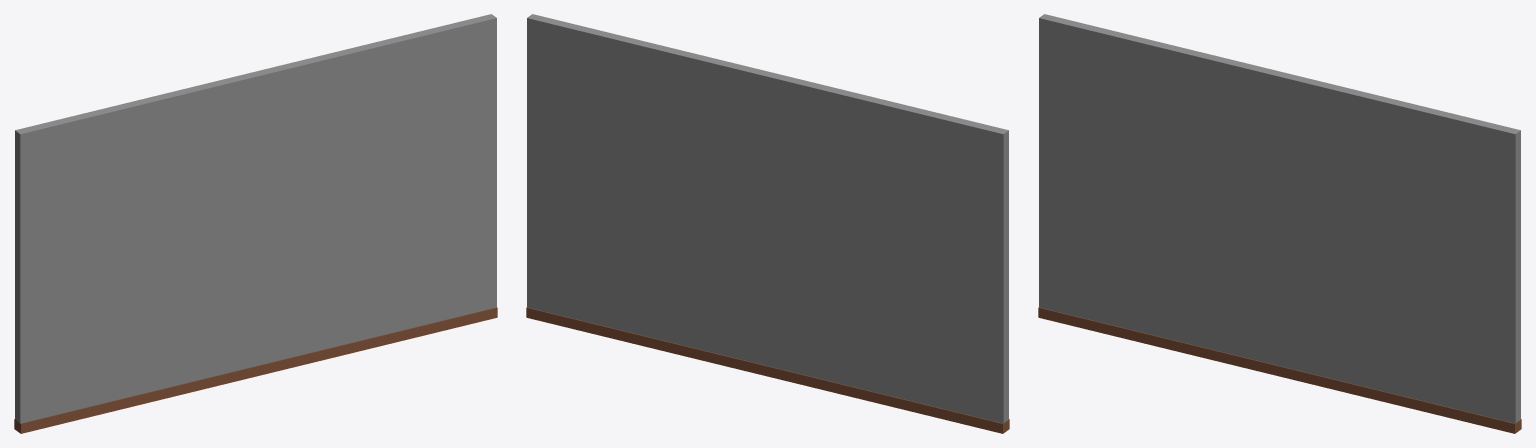
File: Mur_h3m.FBX
The picture shows the model from 3 angles, left to right: view 1: azimuth 30°, elevation 25°; view 2: azimuth 150°, elevation 25°; view 3: azimuth 330°, elevation 25°; orthographic projection.
Parts seen in each view (by area): view 1: mur 500, mur 200, mur 100, mur 50; view 2: mur 500, mur 200, mur 100, mur 50; view 3: mur 500, mur 200, mur 100, mur 50.
Part boxes in pixels (x1,y1,x2,y2): mur 500: [14, 14, 497, 433]; mur 200: [158, 49, 354, 398]; mur 100: [206, 61, 306, 387]; mur 50: [230, 66, 282, 374]; mur 500: [526, 14, 1009, 433]; mur 200: [669, 49, 864, 398]; mur 100: [717, 61, 817, 386]; mur 50: [741, 67, 793, 375]; mur 500: [1038, 14, 1521, 433]; mur 200: [1181, 49, 1376, 397]; mur 100: [1229, 61, 1329, 387]; mur 50: [1253, 66, 1305, 374].
Size of the model in its own units: 500 by 300 by 12.
